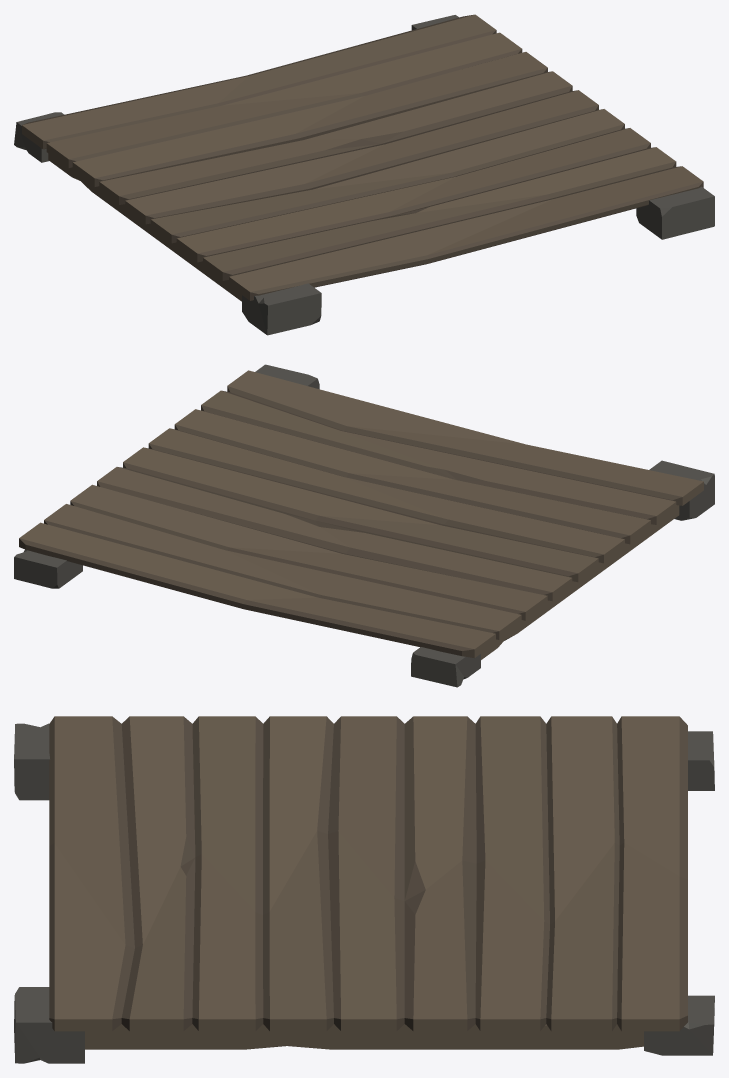
Rendered from bld_bridge.gltf.
The picture shows the model from 3 angles, top to bottom: view 1: azimuth 30°, elevation 25°; view 2: azimuth 150°, elevation 25°; view 3: azimuth 270°, elevation 25°; orthographic projection. The views are drawn at different scales.
Visible parts, largest first — view 1: bld_bridge; view 2: bld_bridge; view 3: bld_bridge.
Boxes of the visible parts, x1,y1,x2,y2 form: bld_bridge: [14, 14, 714, 335]; bld_bridge: [14, 364, 714, 687]; bld_bridge: [14, 716, 714, 1063].
Bounding box in the file's own units: 5.62 × 0.3994 × 5.49.
1 material, 1 textured.
